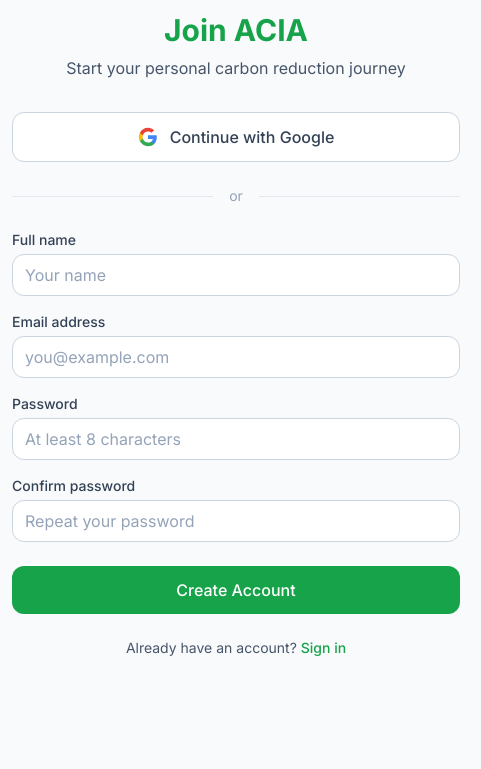
it: RegisterForm › shows error for empty name on submit
Click the button "Create Account".
click(236, 590)  # box [12, 566, 460, 614]
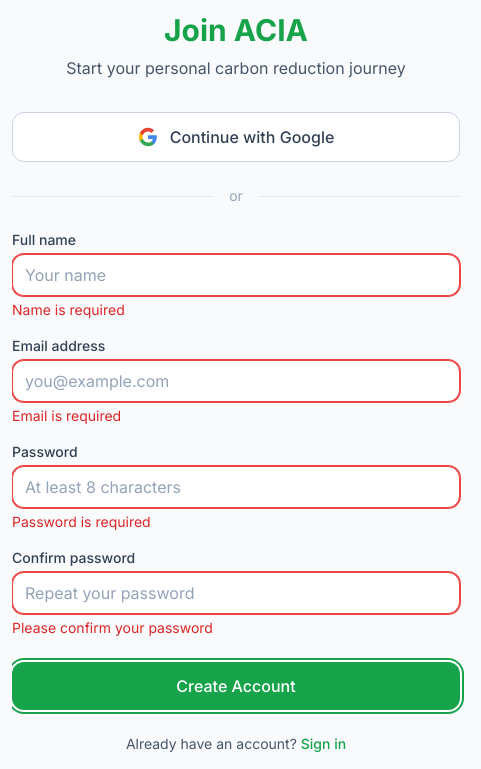
Expected: the message "Name is required" is shown, [12, 301, 125, 318]
